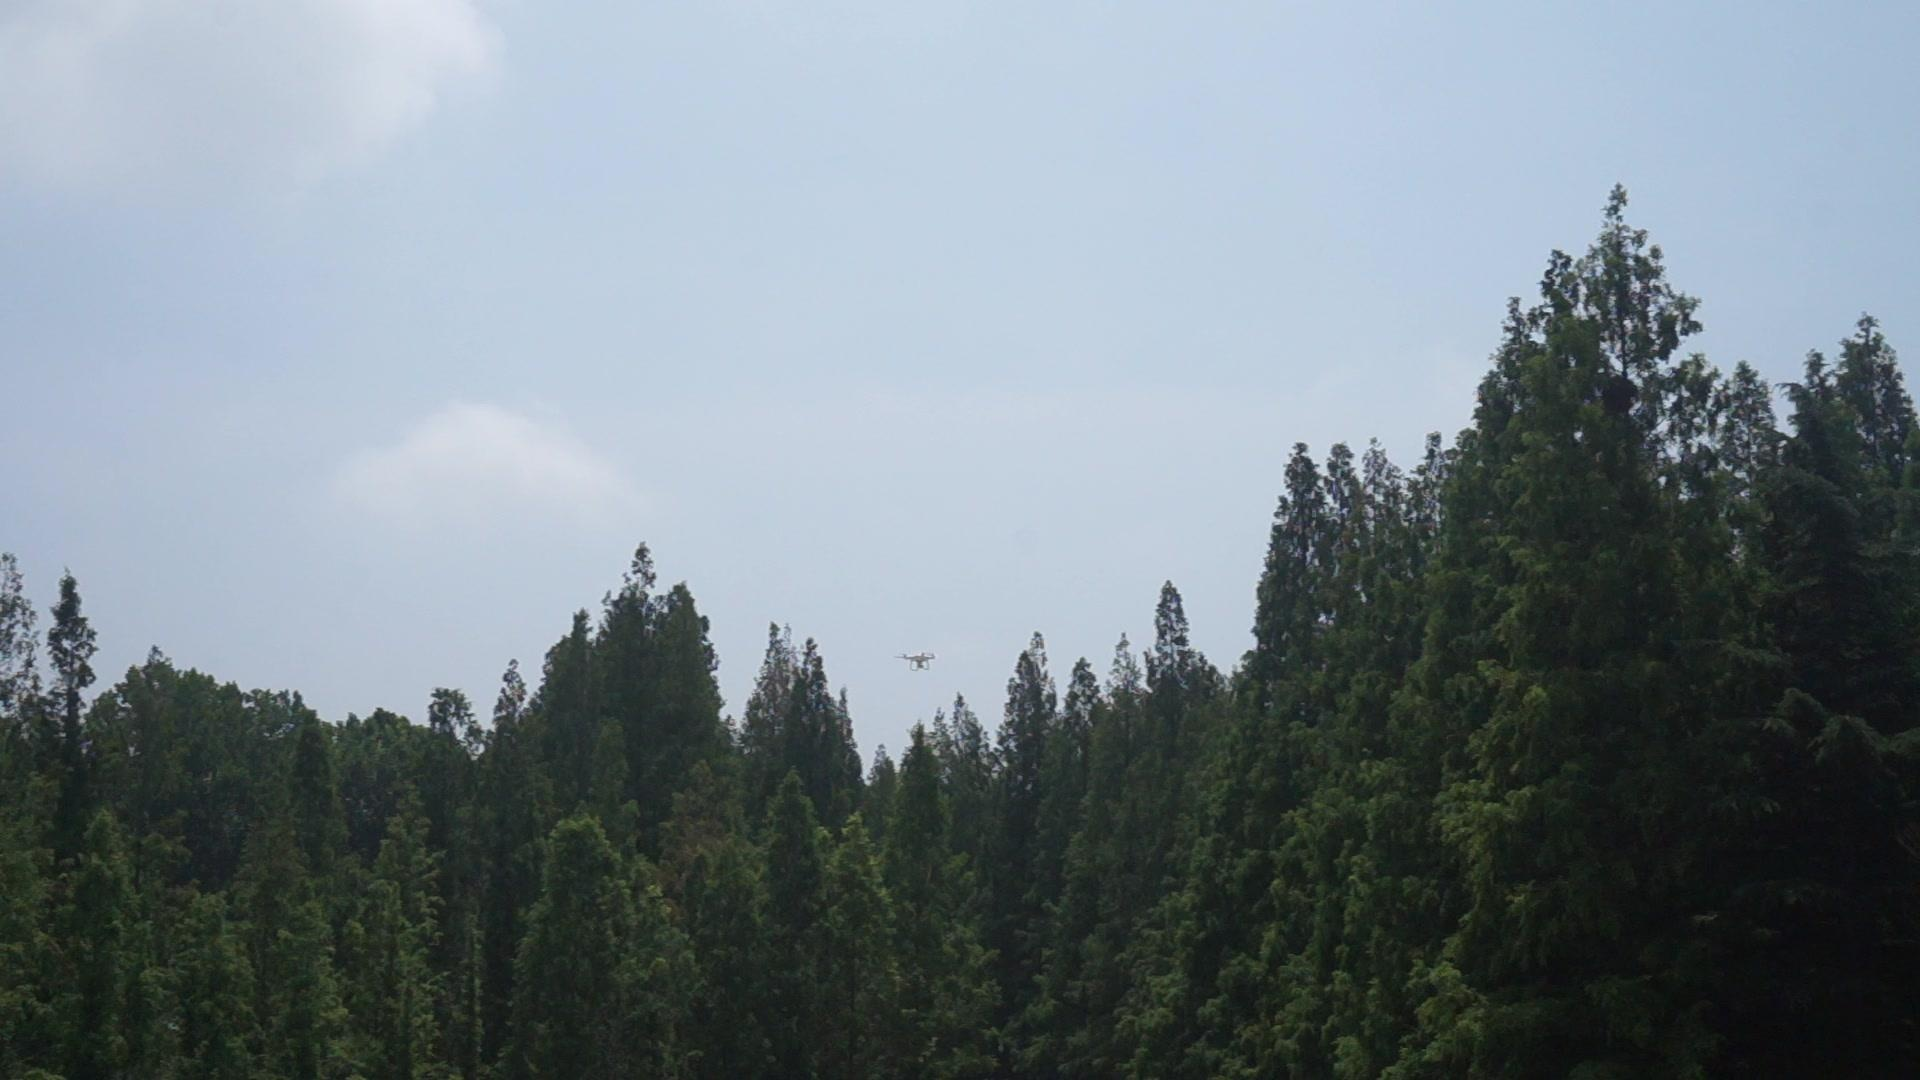UAV: (895, 653, 938, 673)
